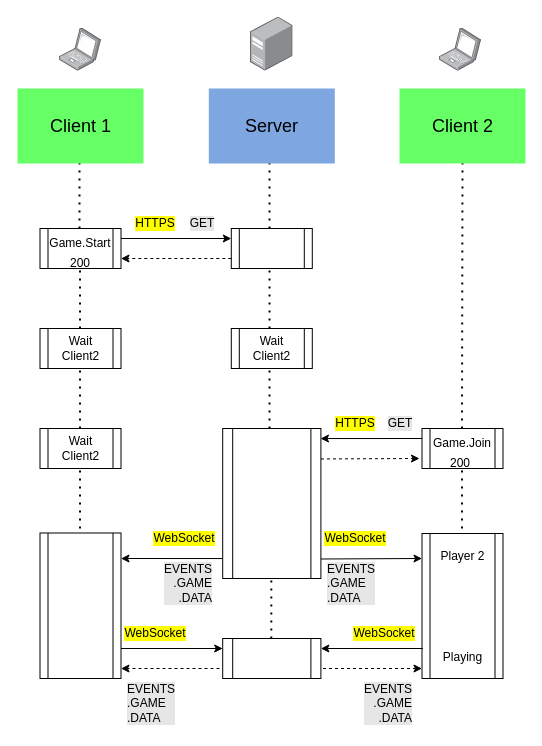
This 542x746 diagram has some shape labels left out. Here are the shapes that lost their labels. From the top down, the centre of each, then its label:
At pixel 271 248: "Share Game Files".
At pixel 271 503: "Share Game Files Game.Statut".
At pixel 80 605: "Player 1 Playing".
At pixel 271 658: "Game.Statut".
